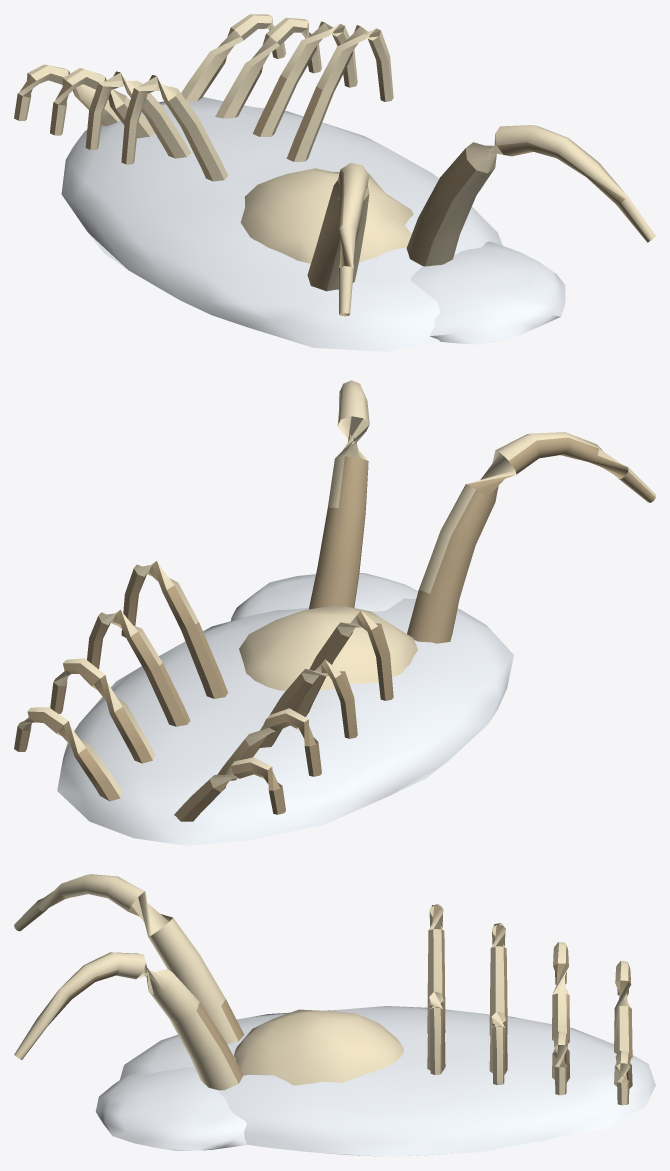
Rendered from MammothBones.fbx.
3 views of the same model, one above another, from view 1: azimuth 30°, elevation 25°; view 2: azimuth 150°, elevation 25°; view 3: azimuth 270°, elevation 25° (orthographic). The views are drawn at different scales.
Visible parts, largest first — view 1: MammothBones; view 2: MammothBones; view 3: MammothBones.
Boxes of the visible parts, left/top/right/bottom form: MammothBones: left=14, top=14, right=655, bottom=351; MammothBones: left=14, top=380, right=655, bottom=845; MammothBones: left=14, top=874, right=655, bottom=1156.
Size of the model in its own units: 1.7 by 1 by 3.3.
1 material, 1 textured.
